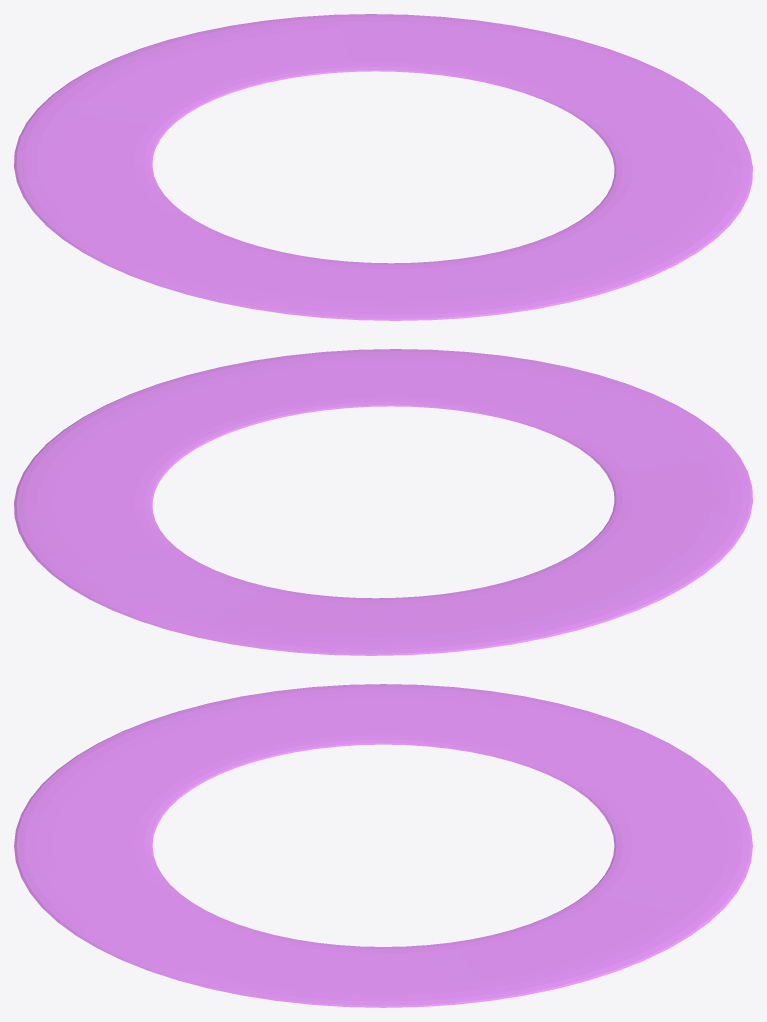
File: onion.FBX
3 renders of one model, top to bottom at view 1: azimuth 30°, elevation 25°; view 2: azimuth 150°, elevation 25°; view 3: azimuth 270°, elevation 25°, orthographic.
Visible parts, largest first — view 1: Onions; view 2: Onions; view 3: Onions.
Part boxes in pixels (<box>): Onions: <box>14,14,752,320</box>; Onions: <box>14,349,752,655</box>; Onions: <box>14,684,752,1007</box>.
Bounding box in the file's own units: 0.000846 × 1.94e-05 × 0.000847.
